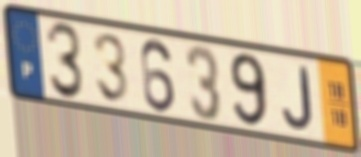3: (44, 19, 86, 102), (185, 41, 222, 124), (91, 32, 131, 105)
6: (138, 35, 177, 115)
9: (228, 50, 270, 130)
J: (281, 63, 316, 133)
